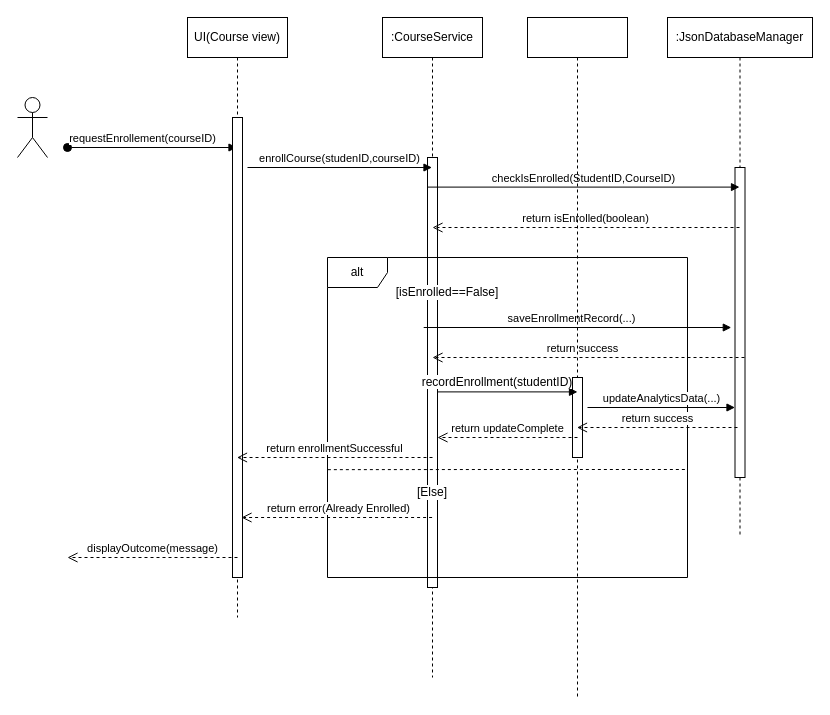
Some shapes in this 830 by 715 pixel diagram are drawn without their labels. The shapes that lost their labels are listed below. From the top down, each one's box as (x1, y1, x2, y2) in pixels, then its label:
(16, 96, 48, 158): Actor
(526, 16, 628, 698): :Analytics
